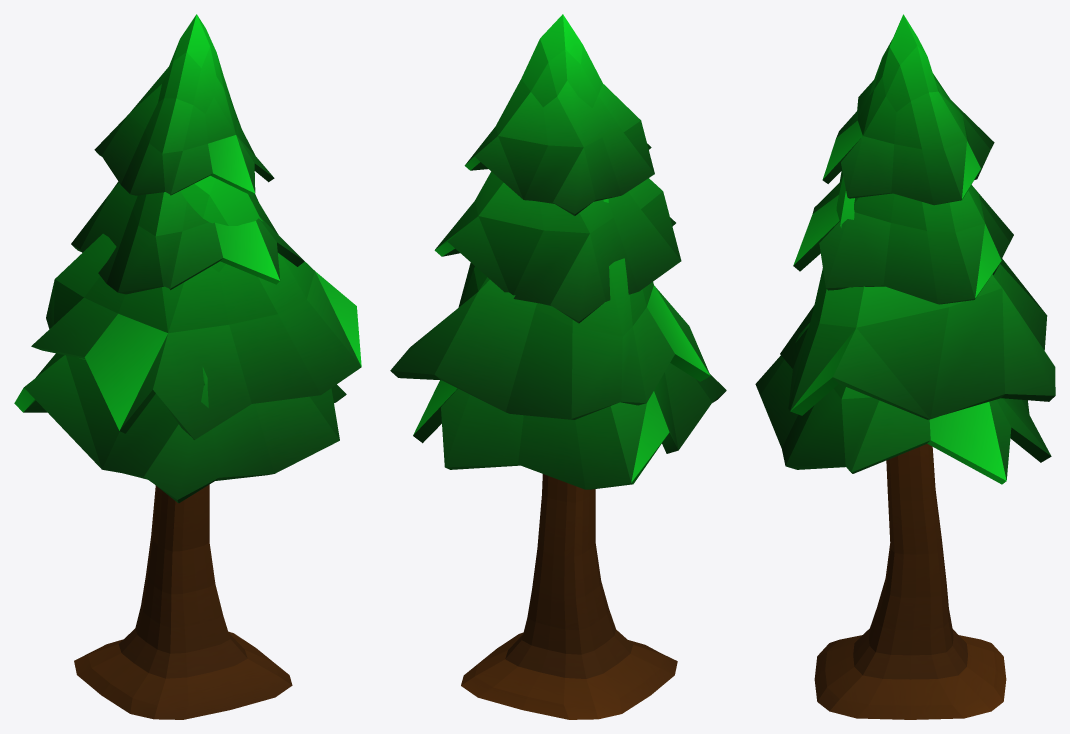
File: Tree_1 1.fbx
3 views of the same model, side by side, from view 1: azimuth 30°, elevation 25°; view 2: azimuth 150°, elevation 25°; view 3: azimuth 270°, elevation 25° (orthographic). The views are drawn at different scales.
Visible parts, largest first — view 1: Plane.001, Cube, Plane, Plane.003, Plane.002; view 2: Plane.001, Cube, Plane.002, Plane.003, Plane; view 3: Plane.001, Cube, Plane.002, Plane.003, Plane.
Part boxes in pixels (x1=…): Plane.001: x1=31, y1=175, x2=361, y2=439; Cube: x1=74, y1=484, x2=292, y2=719; Plane: x1=14, y1=353, x2=346, y2=503; Plane.003: x1=94, y1=14, x2=274, y2=195; Plane.002: x1=71, y1=181, x2=304, y2=294; Plane.001: x1=390, y1=198, x2=710, y2=419; Cube: x1=461, y1=474, x2=677, y2=719; Plane.002: x1=434, y1=171, x2=681, y2=323; Plane.003: x1=464, y1=14, x2=654, y2=215; Plane: x1=413, y1=363, x2=726, y2=489; Plane.001: x1=780, y1=176, x2=1055, y2=419; Cube: x1=814, y1=444, x2=1006, y2=719; Plane.002: x1=793, y1=170, x2=1013, y2=304; Plane.003: x1=822, y1=14, x2=994, y2=205; Plane: x1=755, y1=322, x2=1051, y2=484.
Bounding box in the file's own units: 130 × 312 × 126.
